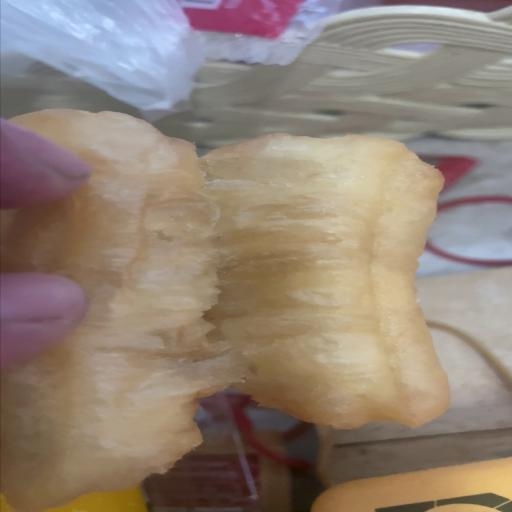street_golden_defect: (0, 123, 452, 512)
